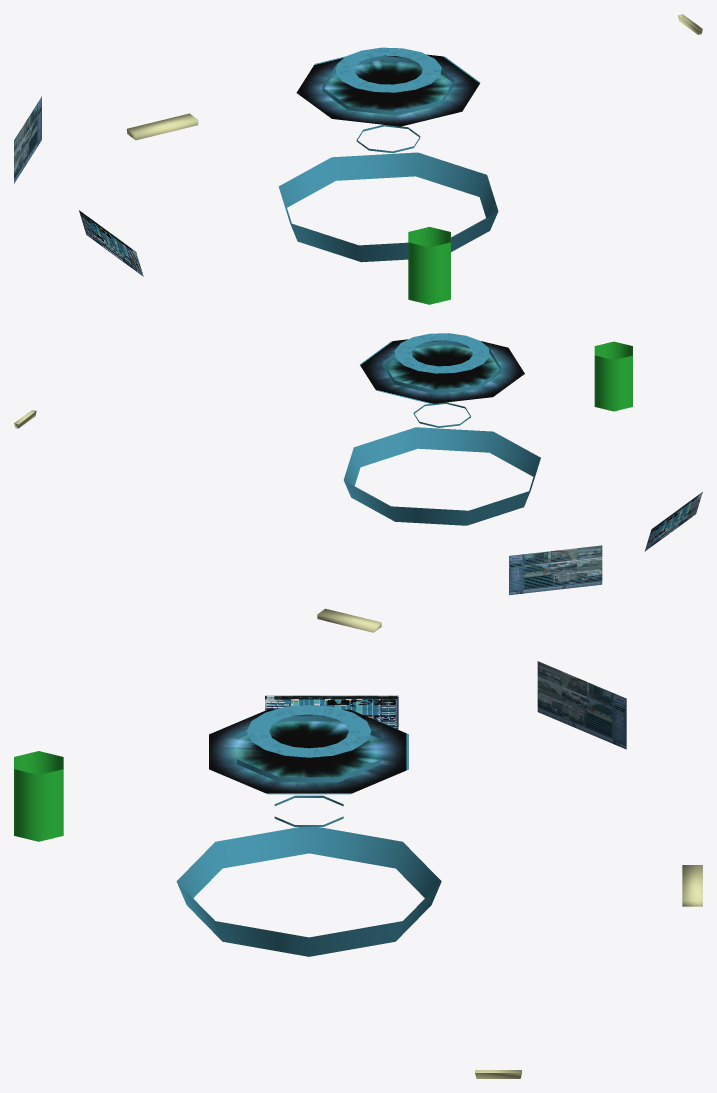
The model's file is map05_light_01.FBX.
The picture shows the model from 3 angles, top to bottom: view 1: azimuth 30°, elevation 25°; view 2: azimuth 150°, elevation 25°; view 3: azimuth 270°, elevation 25°; orthographic projection. The views are drawn at different scales.
Parts seen in each view (by area): view 1: map05light_05, map05light_03, jar_01, map05light_01, screen_02, screen_01, map05light_02, map05light_06; view 2: map05light_05, map05light_03, screen_02, jar_01, map05light_01, screen_01, map05light_02, map05light_06; view 3: map05light_05, map05light_03, screen_02, jar_01, map05light_01, screen_01, map05light_02, map05light_06.
Boxes of the visible parts, box(x1,y1,x2,y2) form: map05light_05: box(278, 152, 498, 262); map05light_03: box(296, 54, 480, 126); jar_01: box(408, 227, 450, 304); map05light_01: box(335, 47, 441, 92); screen_02: box(14, 96, 41, 183); screen_01: box(79, 210, 143, 276); map05light_02: box(322, 55, 454, 115); map05light_06: box(127, 113, 198, 140); map05light_05: box(343, 427, 540, 525); map05light_03: box(359, 339, 524, 403); screen_02: box(509, 545, 602, 595); jar_01: box(594, 341, 632, 411); map05light_01: box(394, 333, 489, 373); screen_01: box(644, 491, 702, 551); map05light_02: box(382, 340, 501, 394); map05light_06: box(317, 608, 381, 632); map05light_05: box(176, 827, 441, 956); map05light_03: box(209, 709, 408, 794); screen_02: box(537, 661, 626, 749); jar_01: box(14, 751, 63, 841); map05light_01: box(247, 705, 371, 757); screen_01: box(265, 695, 398, 729); map05light_02: box(237, 716, 380, 782); map05light_06: box(682, 865, 702, 906).
Size of the model in its own units: 3580 by 852 by 2770.
